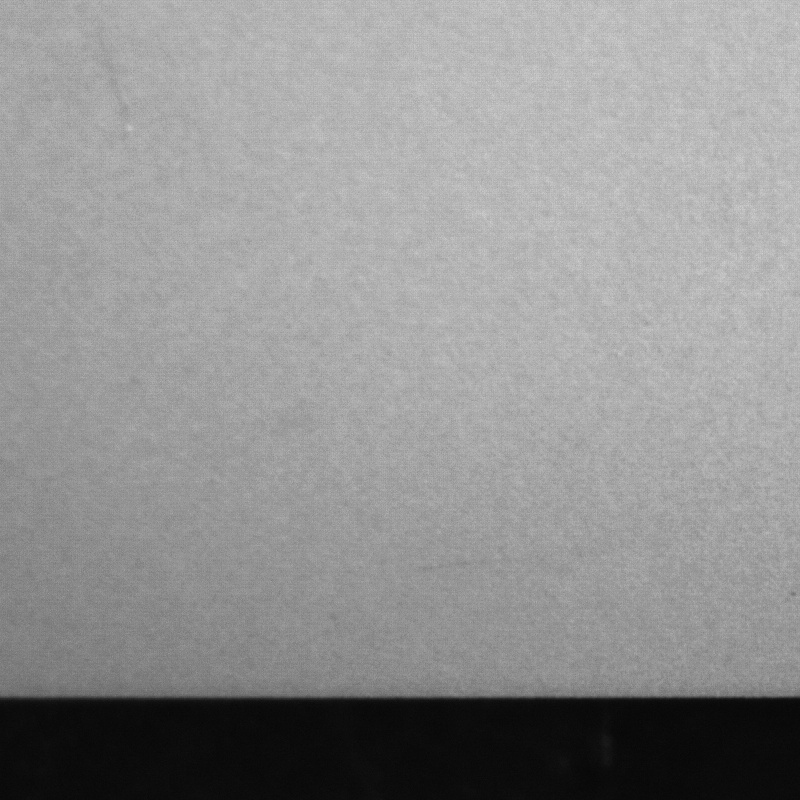defect: (96, 29, 134, 125), (419, 561, 530, 578), (787, 588, 798, 606)
